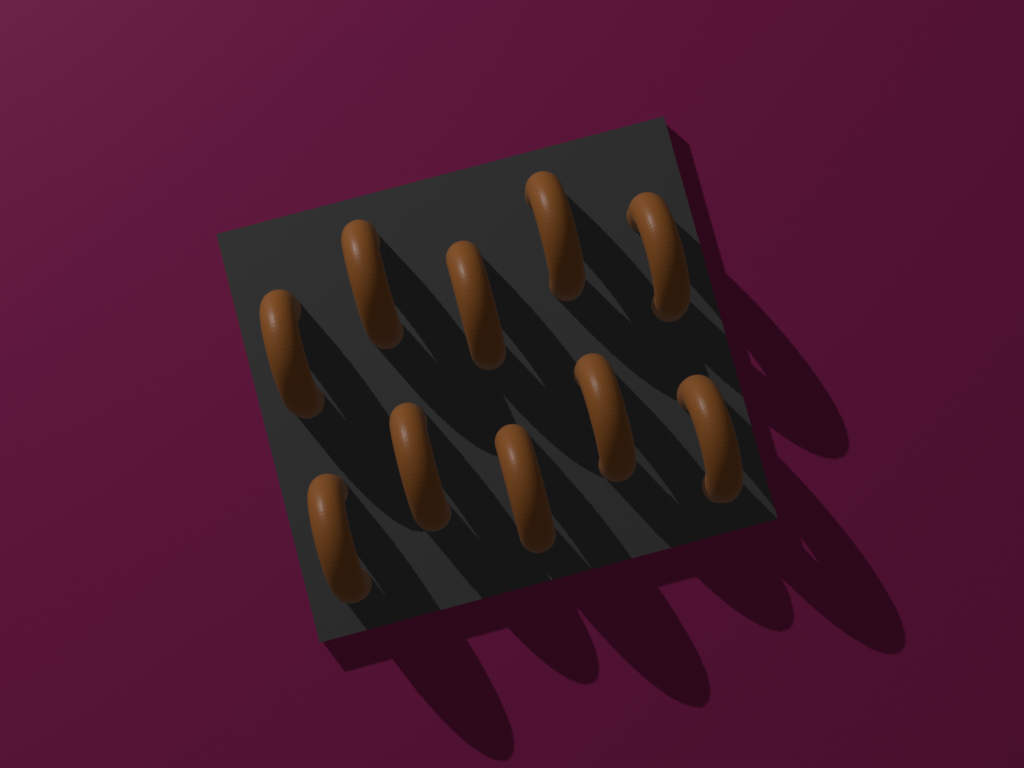return-bend: (323, 195, 421, 367), (289, 452, 387, 623), (238, 261, 336, 432), (368, 381, 466, 552), (478, 402, 576, 573), (431, 218, 529, 389), (553, 331, 651, 502), (664, 355, 762, 526), (511, 152, 609, 323), (614, 168, 712, 339)
